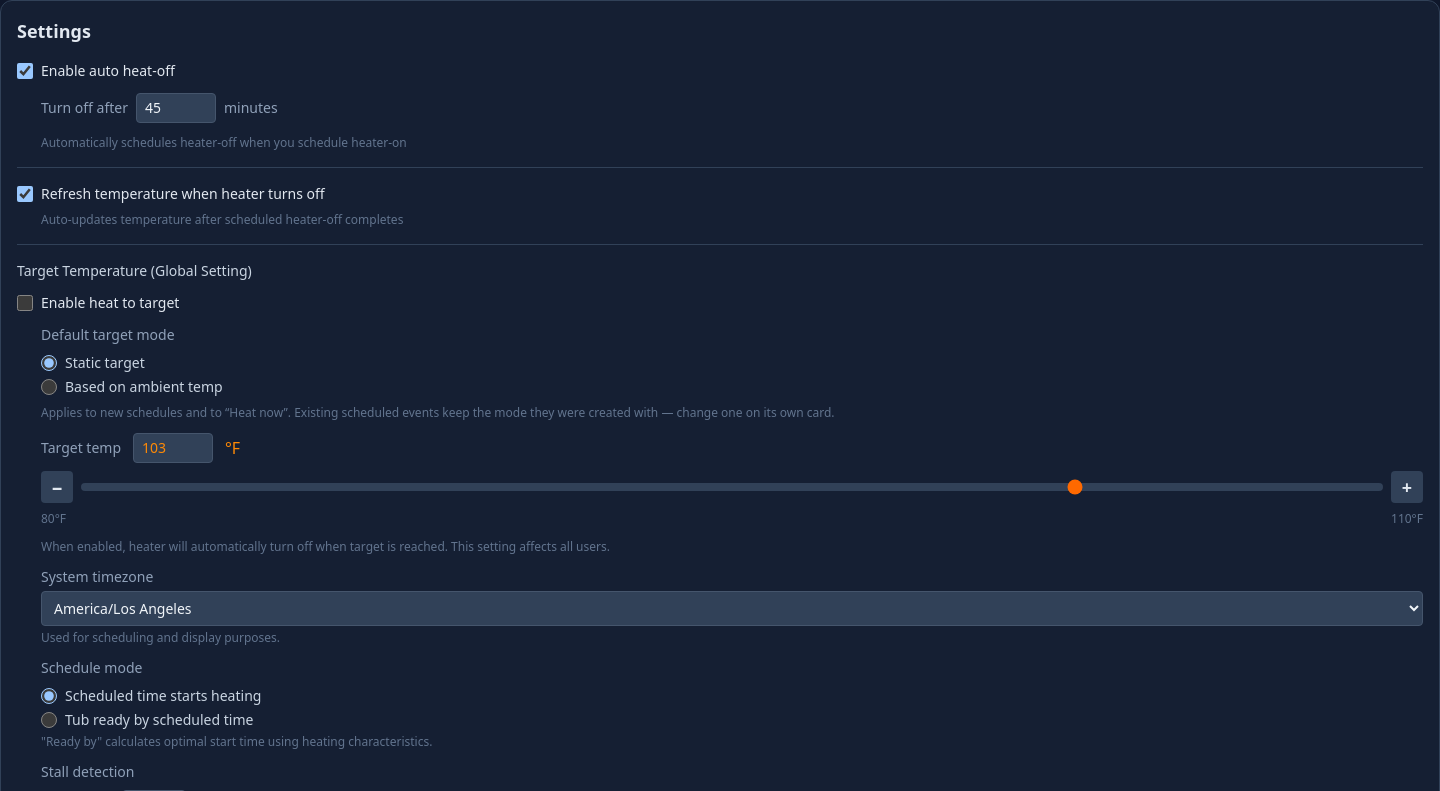
SettingsPanel › temperature increment/decrement buttons › increase button raises temperature by 0.25
The width and height of the screenshot is (1440, 791).
Click the button named "increase temperature" at coordinates (1407, 487), box [1391, 471, 1423, 503]
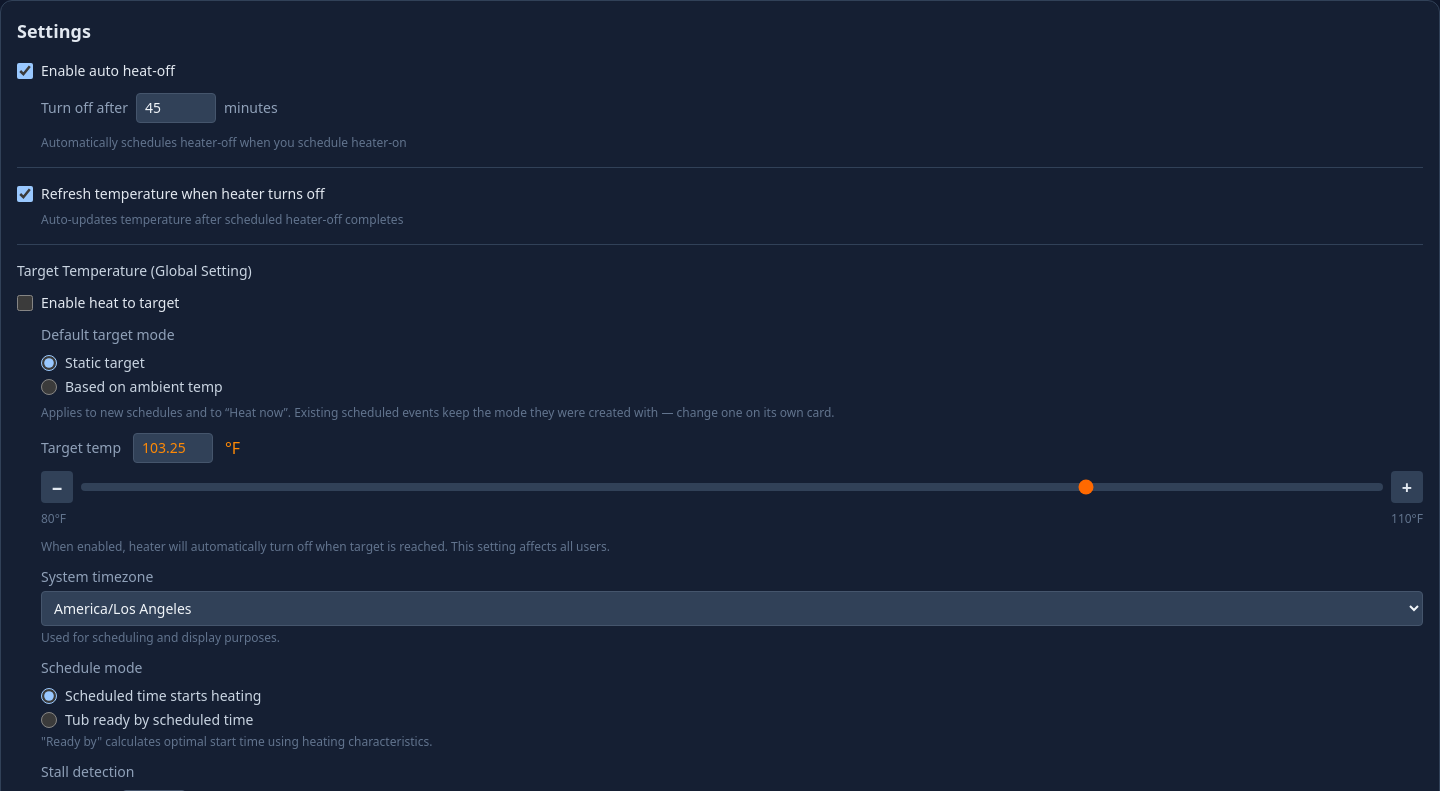
Check: the number field named "target temp input" holds "103.25", box [133, 433, 213, 463]
